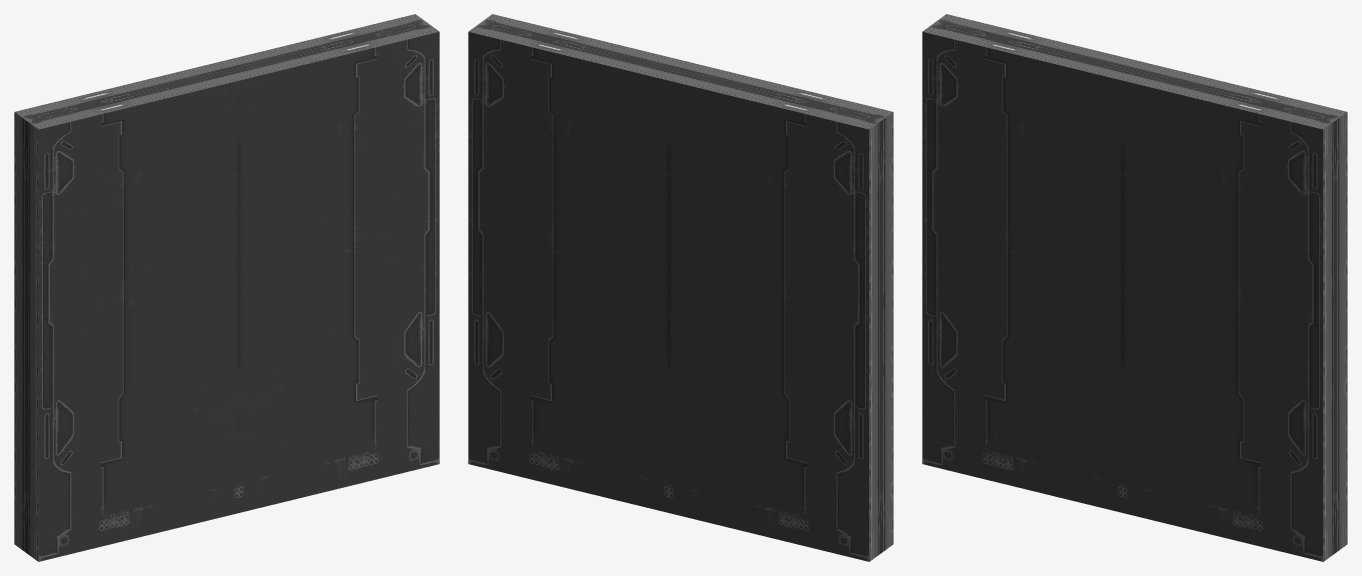
The model's file is Door_Frame_Square_Blocked.glb.
3 renders of one model, left to right at view 1: azimuth 30°, elevation 25°; view 2: azimuth 150°, elevation 25°; view 3: azimuth 330°, elevation 25°, orthographic.
Parts seen in each view (by area): view 1: Door_Frame_Square_Blocked; view 2: Door_Frame_Square_Blocked; view 3: Door_Frame_Square_Blocked.
Part boxes in pixels (<box>): Door_Frame_Square_Blocked: <box>14,14,439,561</box>; Door_Frame_Square_Blocked: <box>468,14,893,561</box>; Door_Frame_Square_Blocked: <box>922,14,1347,561</box>.
Size of the model in its own units: 4.85 by 5 by 0.5066.
1 material, 1 textured.
